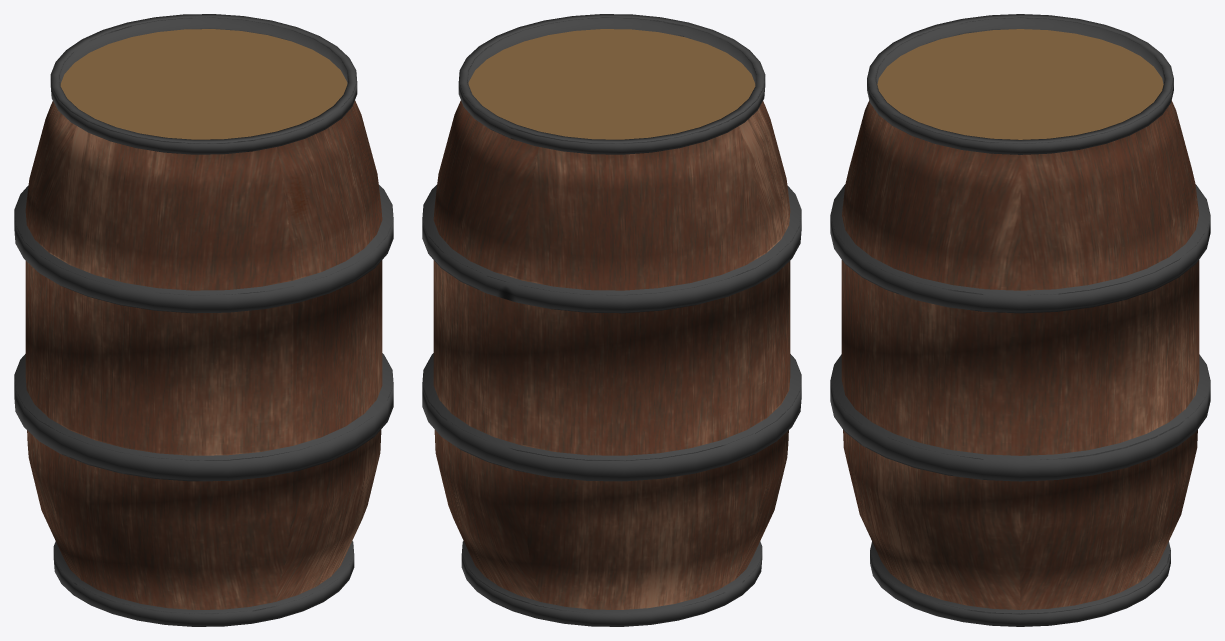
Rendered from barrel with lid.fbx.
3 renders of one model, left to right at view 1: azimuth 30°, elevation 25°; view 2: azimuth 150°, elevation 25°; view 3: azimuth 270°, elevation 25°, orthographic.
Visible parts, largest first — view 1: Cylinder.001; view 2: Cylinder.001; view 3: Cylinder.001.
Boxes of the visible parts, x1=… form: Cylinder.001: x1=14, y1=14, x2=393, y2=626; Cylinder.001: x1=422, y1=14, x2=801, y2=626; Cylinder.001: x1=830, y1=14, x2=1210, y2=626.
Size of the model in its own units: 213 by 299 by 213.
